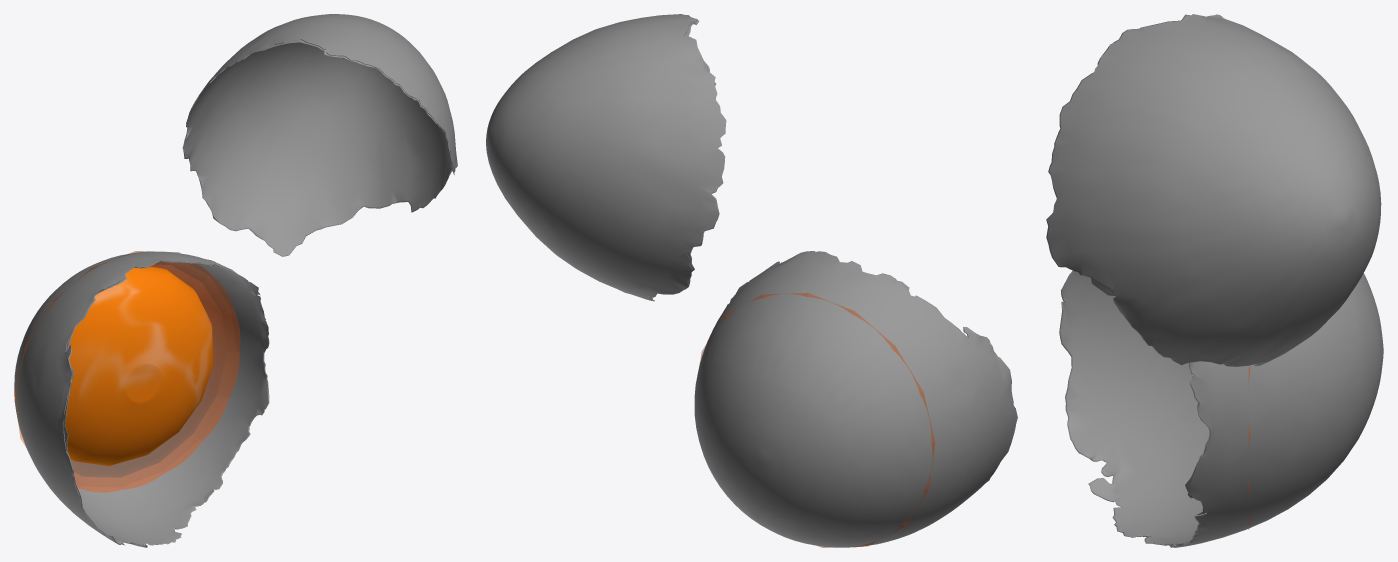
The model's file is Broken_White_Egg_convert.obj.
The picture shows the model from 3 angles, left to right: view 1: azimuth 30°, elevation 25°; view 2: azimuth 150°, elevation 25°; view 3: azimuth 270°, elevation 25°; orthographic projection. The views are drawn at different scales.
Visible parts, largest first — view 1: Membrane, Glair, Yolk, Shell; view 2: Shell, Membrane, Glair; view 3: Shell, Membrane.
Boxes of the visible parts, x1=… form: Membrane: x1=63, y1=40, x2=455, y2=547; Glair: x1=14, y1=251, x2=240, y2=492; Yolk: x1=65, y1=266, x2=213, y2=465; Shell: x1=14, y1=14, x2=457, y2=547; Shell: x1=486, y1=14, x2=1017, y2=547; Membrane: x1=649, y1=16, x2=1014, y2=481; Glair: x1=700, y1=293, x2=934, y2=547; Shell: x1=1048, y1=14, x2=1383, y2=547; Membrane: x1=1046, y1=14, x2=1257, y2=547.
Bounding box in the file's own units: 7.74 × 7.85 × 3.92.
4 materials, 1 textured.
